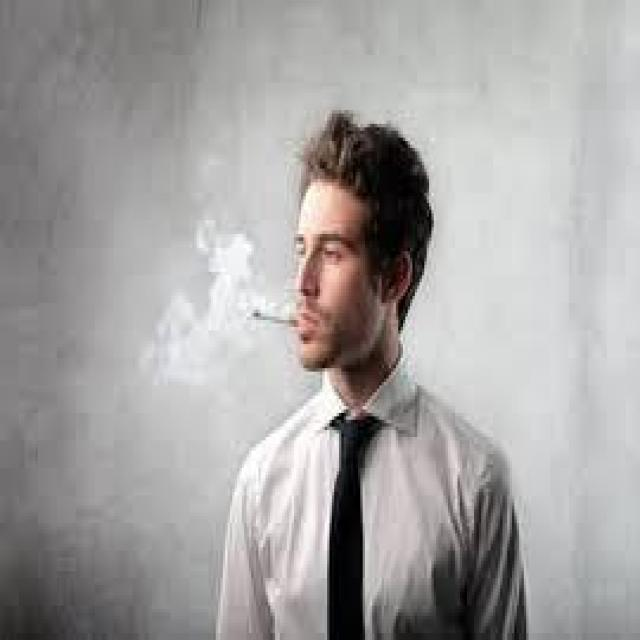cigarette: (237, 285, 306, 358)
